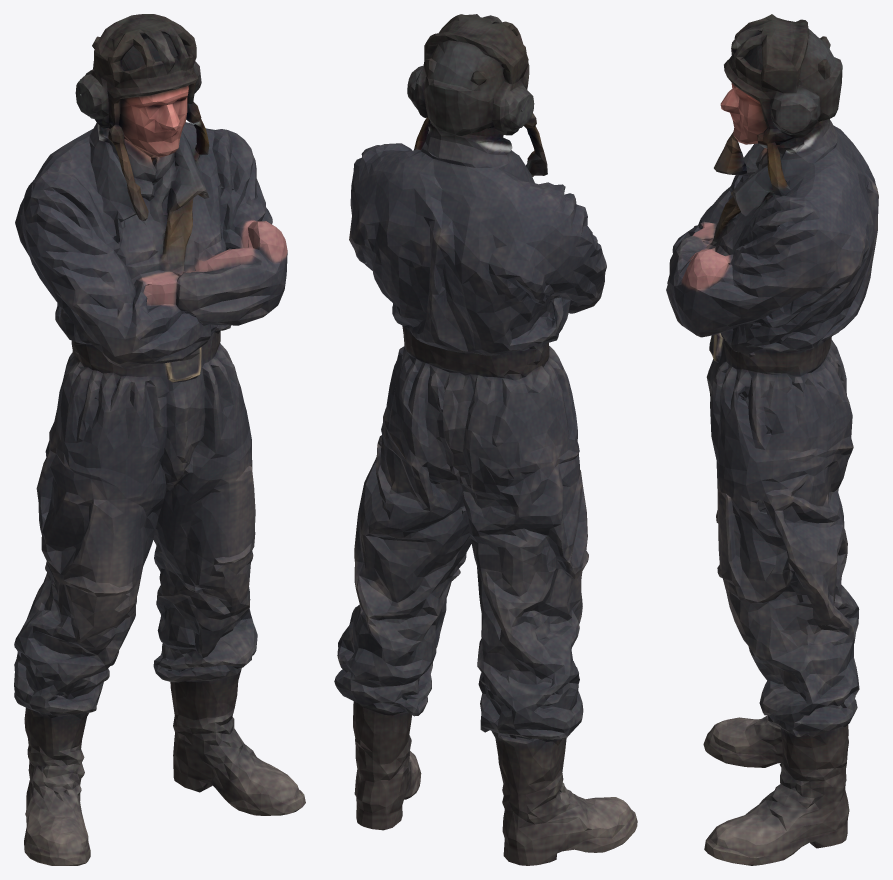
Rendered from crew_su_gunner.obj.
The picture shows the model from 3 angles, left to right: view 1: azimuth 30°, elevation 25°; view 2: azimuth 150°, elevation 25°; view 3: azimuth 270°, elevation 25°; orthographic projection. The views are drawn at different scales.
Visible parts, largest first — view 1: crew_su_gunner; view 2: crew_su_gunner; view 3: crew_su_gunner.
Boxes of the visible parts, left/top/right/bottom form: crew_su_gunner: left=14, top=14, right=305, bottom=865; crew_su_gunner: left=334, top=14, right=637, bottom=865; crew_su_gunner: left=666, top=14, right=878, bottom=865.
Size of the model in its own units: 0.6249 by 1.8 by 0.4459.
1 material, 1 textured.
